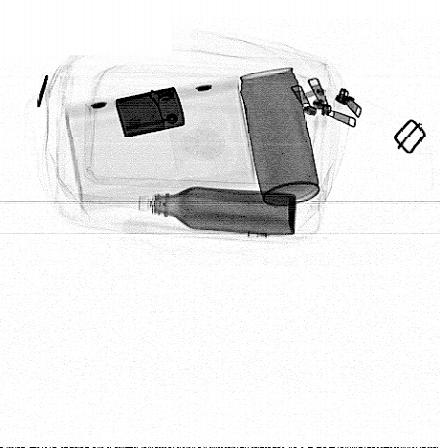Lighter: (115, 87, 185, 138)
